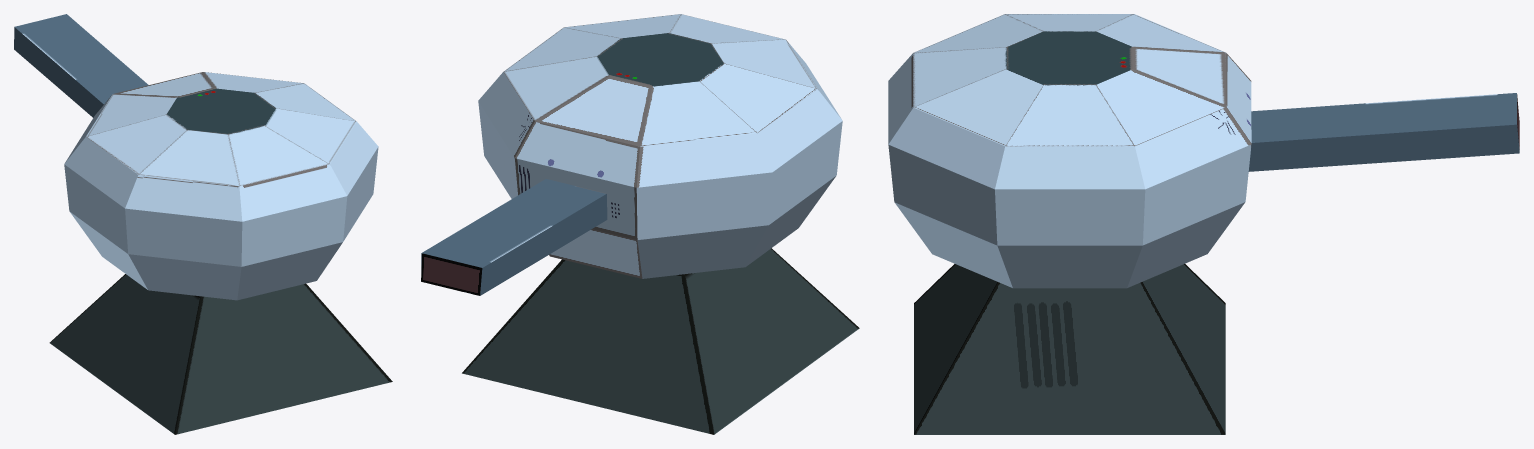
The model's file is Turret1.obj.
3 views of the same model, side by side, from view 1: azimuth 30°, elevation 25°; view 2: azimuth 150°, elevation 25°; view 3: azimuth 270°, elevation 25° (orthographic). The views are drawn at different scales.
Parts seen in each view (by area): view 1: TurrentTop_Cylinder, TurretBase_TurrentBase; view 2: TurrentTop_Cylinder, TurretBase_TurrentBase; view 3: TurrentTop_Cylinder, TurretBase_TurrentBase.
Part boxes in pixels (x1=…): TurrentTop_Cylinder: x1=14, y1=14, x2=378, y2=300; TurretBase_TurrentBase: x1=49, y1=274, x2=392, y2=434; TurrentTop_Cylinder: x1=421, y1=14, x2=842, y2=295; TurretBase_TurrentBase: x1=462, y1=248, x2=859, y2=434; TurrentTop_Cylinder: x1=888, y1=14, x2=1519, y2=288; TurretBase_TurrentBase: x1=914, y1=264, x2=1225, y2=434.
Bounding box in the file's own units: 5.36 × 5.07 × 9.32.
